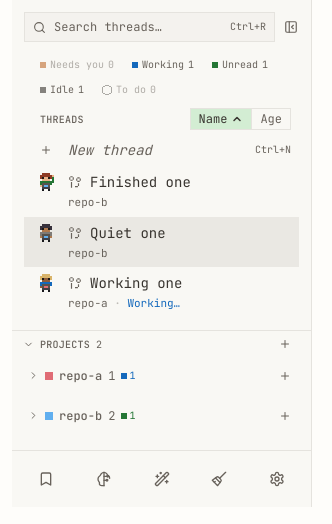
it: Sidebar follow-up flags › flags a thread To do from its menu: the row shows it and the chip counts it
The image size is (332, 524).
Expected: the element named "Filter threads" shows "To do 0", [24,54,299,100]
Step 1. Right-click the text "Quiet one" → (128, 232), box [90,224,166,242]
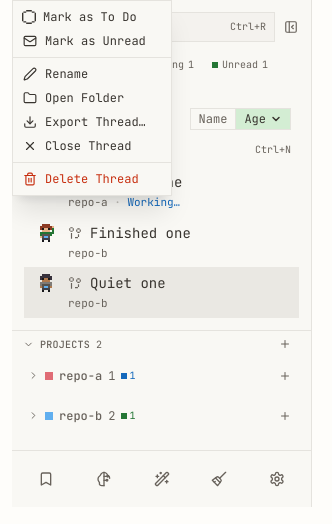
Step 2. Click the menu item "Mark as To Do" → (92, 17), box [13,5,171,29]
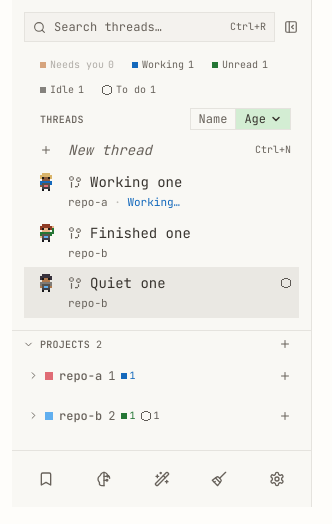
Expected: the element named "Filter threads" shows "Idle 1", [24,54,299,100]
Now the element named "Filter threads" shows "To do 1", box [24,54,299,100]
Now the picture named "To do" is shown, box [281,278,291,288]
